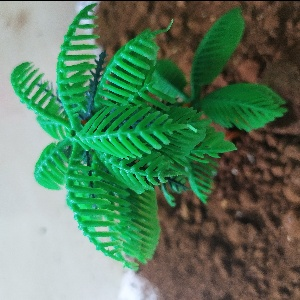plant: (7, 11, 292, 256)
